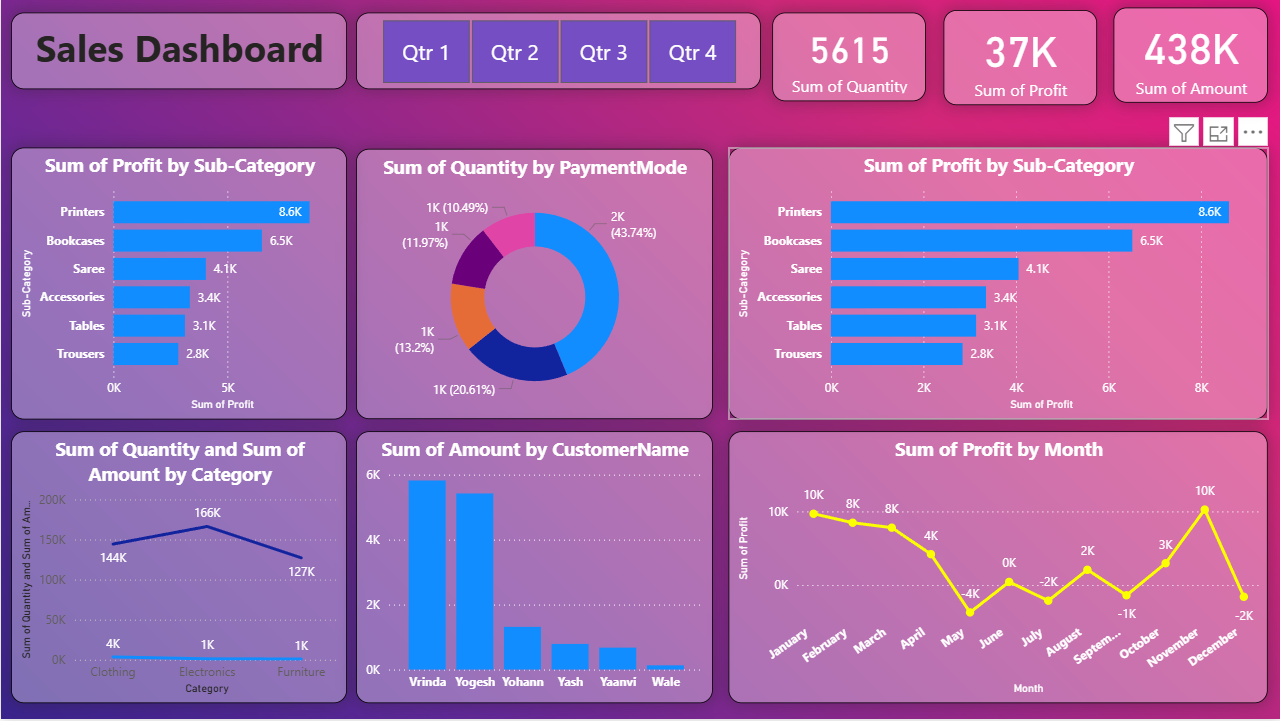

Layout of this report page (visuals, bound fields, positions):
{"tool":"powerbi","page":{"name":"Page 1","canvas":[1280,720],"ordinal":0},"visuals":[{"type":"textbox","box":[9.4,12.1,336.3,76.7],"z":0},{"type":"lineChart","fields":{"Category":["Orders.Order Date.Variation.Date Hierarchy.Month"],"Y":["Sum(Details.Profit)"]},"box":[727.7,431.8,539.4,271.7],"z":1000},{"type":"barChart","fields":{"Y":["Sum(Details.Profit)"],"Category":["Details.Sub-Category"]},"box":[727.7,148,539.4,271.7],"z":2000},{"type":"lineChart","fields":{"Category":["Details.Category"],"Y":["Sum(Details.Quantity)","Sum(Details.Amount)"]},"box":[9.4,431.8,336.3,271.7],"z":3000},{"type":"donutChart","fields":{"Y":["Sum(Details.Quantity)"],"Category":["Details.PaymentMode"]},"box":[355.1,149.3,356.5,270.4],"z":4000},{"type":"card","fields":{"Values":["Sum(Details.Amount)"]},"box":[1112.4,8.1,154.7,95.5],"z":5000},{"type":"card","fields":{"Values":["Sum(Details.Profit)"]},"box":[942.9,9.4,153.3,95.5],"z":6000},{"type":"card","fields":{"Values":["Sum(Details.Quantity)"]},"box":[770.7,12.1,153.3,88.8],"z":7000},{"type":"barChart","fields":{"Y":["Sum(Details.Profit)"],"Category":["Details.Sub-Category"]},"box":[9.4,148,336.3,271.7],"z":8000},{"type":"lineStackedColumnComboChart","fields":{"Category":["Orders.CustomerName"],"Y":["Sum(Details.Amount)"]},"box":[355.1,431.8,356.5,271.7],"z":9000},{"type":"slicer","fields":{"Values":["Orders.Order Date.Variation.Date Hierarchy.Quarter"]},"box":[355.1,12.1,404.9,76.7],"z":10000}]}

Visuals, with their boxes in screenshot pixels (x1, y1, x2, y2), scaled from the page's 1280x720 canvas onto the 1280x721 screenshot:
textbox: locate(9, 12, 346, 89)
lineChart - Orders.Order Date.Variation.Date Hierarchy.Month x Sum(Details.Profit): locate(728, 432, 1267, 704)
barChart - Sum(Details.Profit) x Details.Sub-Category: locate(728, 148, 1267, 420)
lineChart - Details.Category x Sum(Details.Quantity): locate(9, 432, 346, 704)
donutChart - Sum(Details.Quantity) x Details.PaymentMode: locate(355, 150, 712, 420)
card - Sum(Details.Amount): locate(1112, 8, 1267, 104)
card - Sum(Details.Profit): locate(943, 9, 1096, 105)
card - Sum(Details.Quantity): locate(771, 12, 924, 101)
barChart - Sum(Details.Profit) x Details.Sub-Category: locate(9, 148, 346, 420)
lineStackedColumnComboChart - Orders.CustomerName x Sum(Details.Amount): locate(355, 432, 712, 704)
slicer - Orders.Order Date.Variation.Date Hierarchy.Quarter: locate(355, 12, 760, 89)
